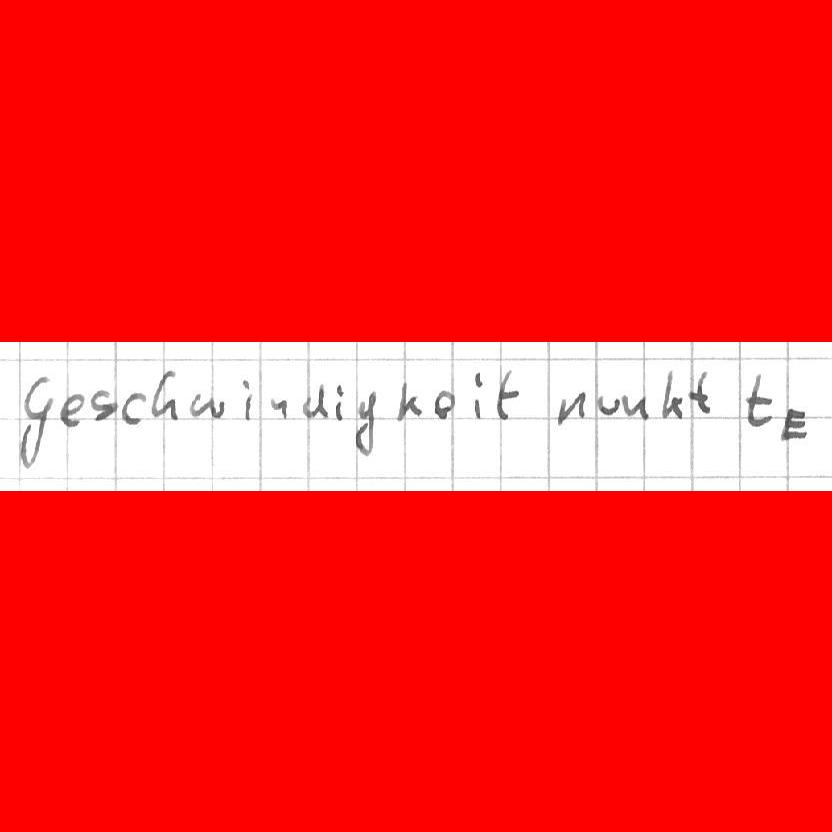Char: (13, 368, 54, 474), (740, 369, 773, 433), (150, 369, 180, 421), (353, 390, 376, 457), (494, 366, 519, 424), (660, 366, 686, 420), (778, 403, 809, 442), (556, 388, 586, 428), (394, 380, 421, 421), (58, 390, 86, 427), (118, 390, 145, 426), (189, 391, 221, 420), (301, 383, 326, 420), (89, 388, 115, 423), (691, 369, 711, 414), (622, 391, 649, 421), (238, 376, 255, 420), (432, 389, 456, 420), (597, 391, 621, 419), (471, 370, 484, 421), (269, 395, 289, 421), (333, 384, 347, 421)
